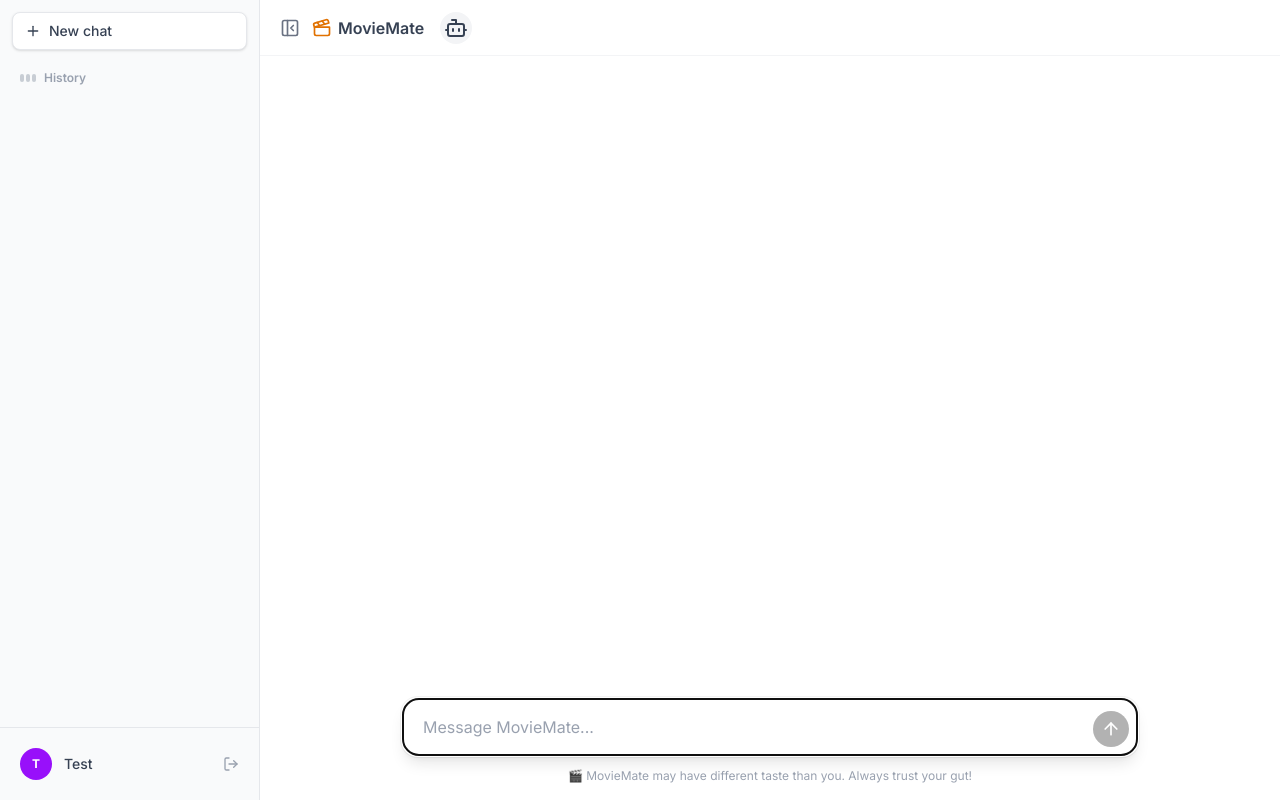
ChatInterface Component › Message Input › submit button is enabled when input has text
Type "Test message" into the field with placeholder "Message MovieMate..." at (770, 727), box [403,699,1137,755]
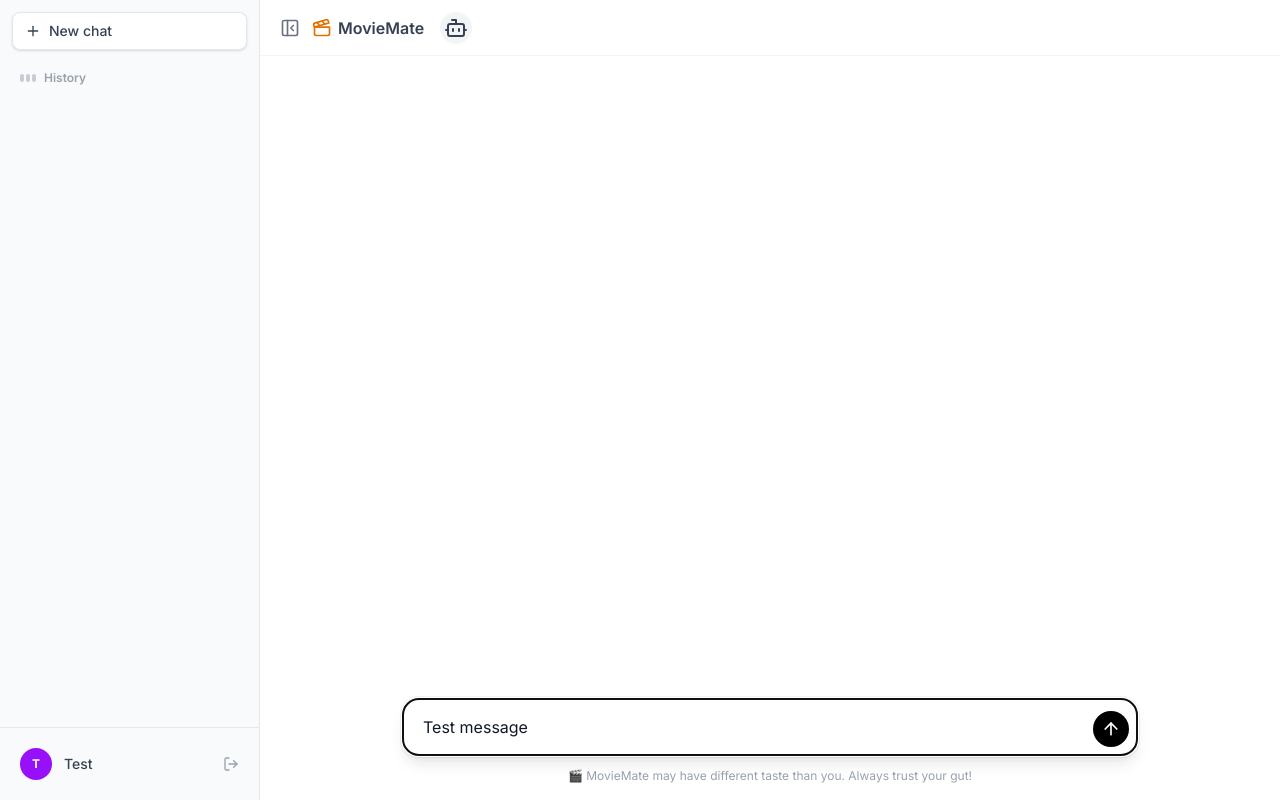
expect the 3rd button is enabled: met, box [1093,711,1129,747]
